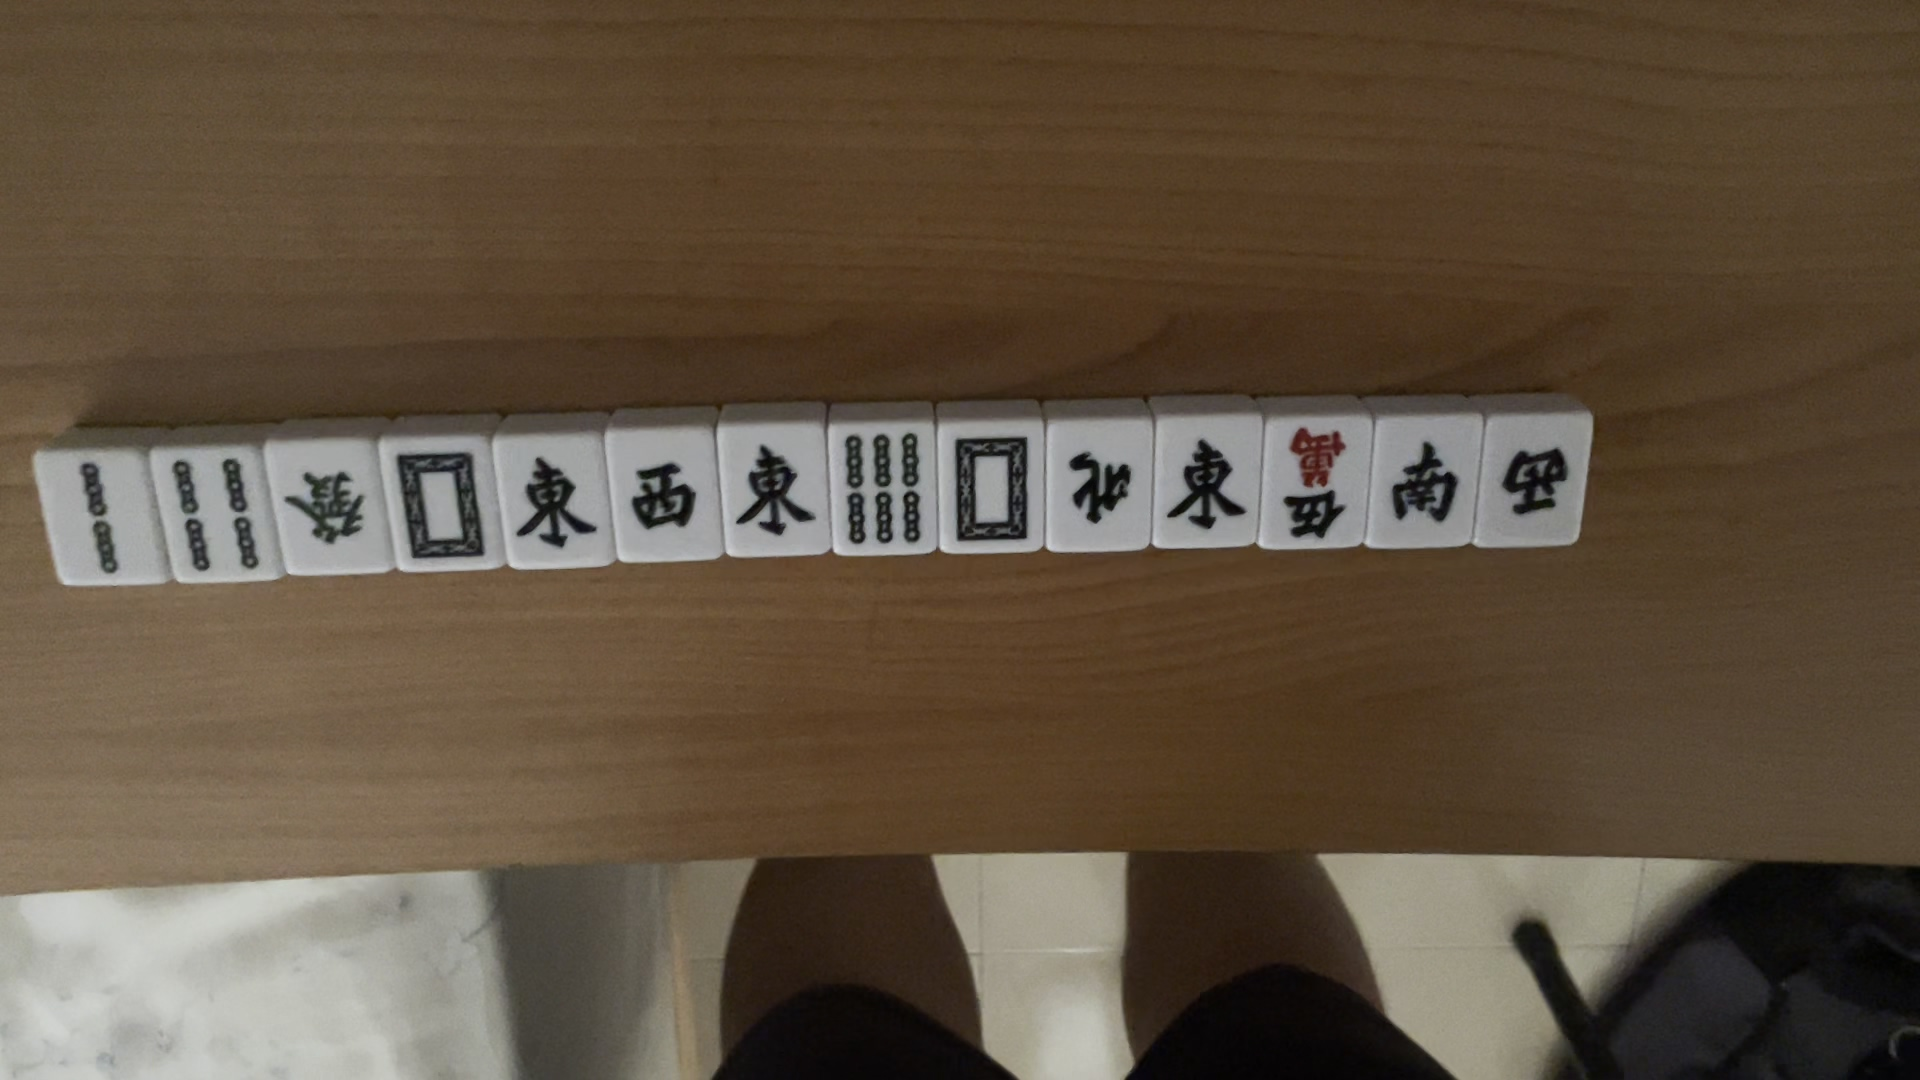b-2: (67, 456, 133, 579)
b-4: (164, 454, 260, 576)
b-6: (835, 430, 928, 549)
c-5: (1274, 425, 1358, 550)
honors-east: (731, 444, 820, 545), (1168, 435, 1251, 541), (516, 454, 603, 554)
honors-green: (277, 458, 371, 551)
honors-north: (1064, 440, 1135, 525)
honors-south: (1379, 430, 1474, 538)
honors-west: (1497, 438, 1584, 524), (629, 462, 700, 538)
honors-white: (392, 446, 491, 563), (948, 431, 1036, 550)
